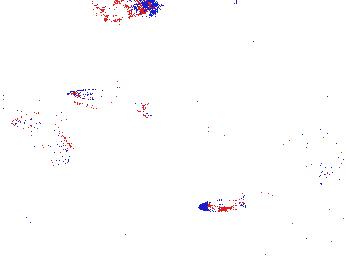X-ray fish: (34, 123, 75, 167), (100, 1, 166, 21)
red belly glassfish: (198, 194, 251, 214), (10, 112, 63, 130)
redtail glassfish: (68, 84, 156, 120), (1, 81, 72, 116)
